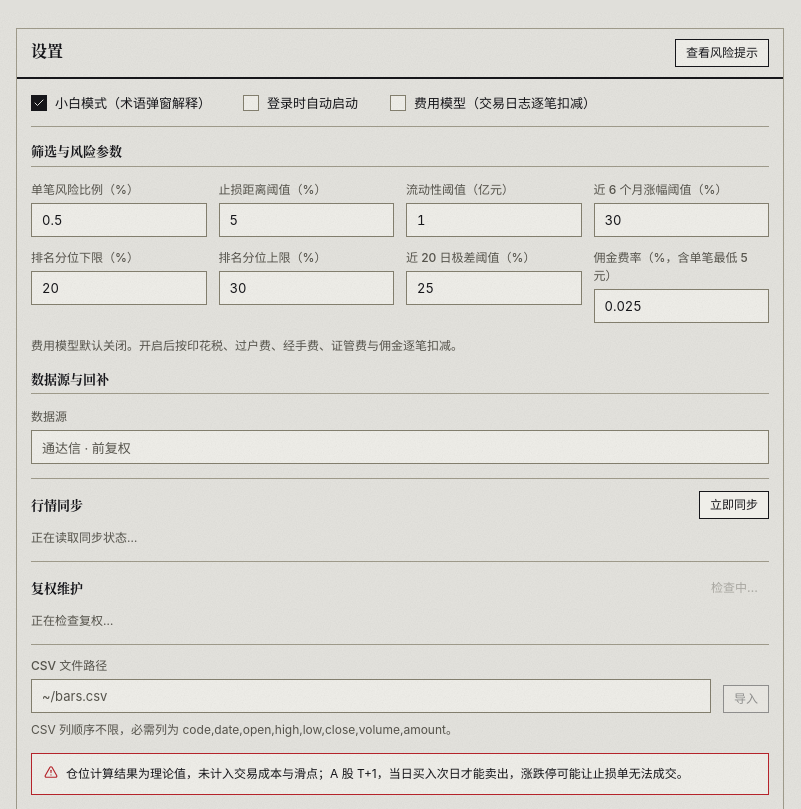
Scenario: 设置页 › CSV 导入失败时显示明确错误
This screenshot has width=801, height=809.
Type "/tmp/broken.csv" into the field labelled "CSV 文件路径".
click(371, 696); type("/tmp/broken.csv")  # box [31,679,711,713]
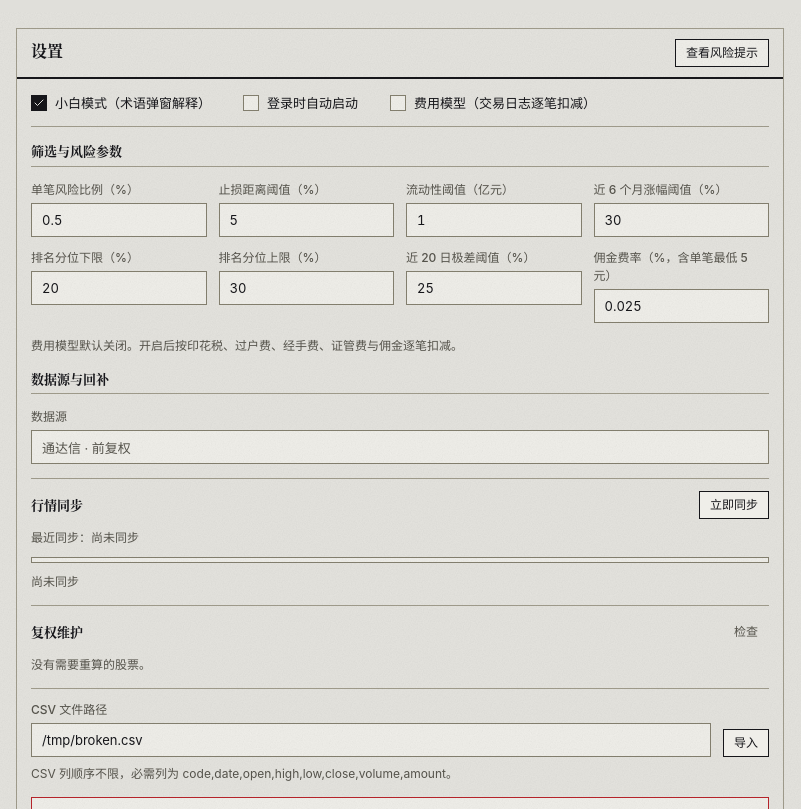
Click the button "导入".
click(746, 743)  # box [723,729,769,757]
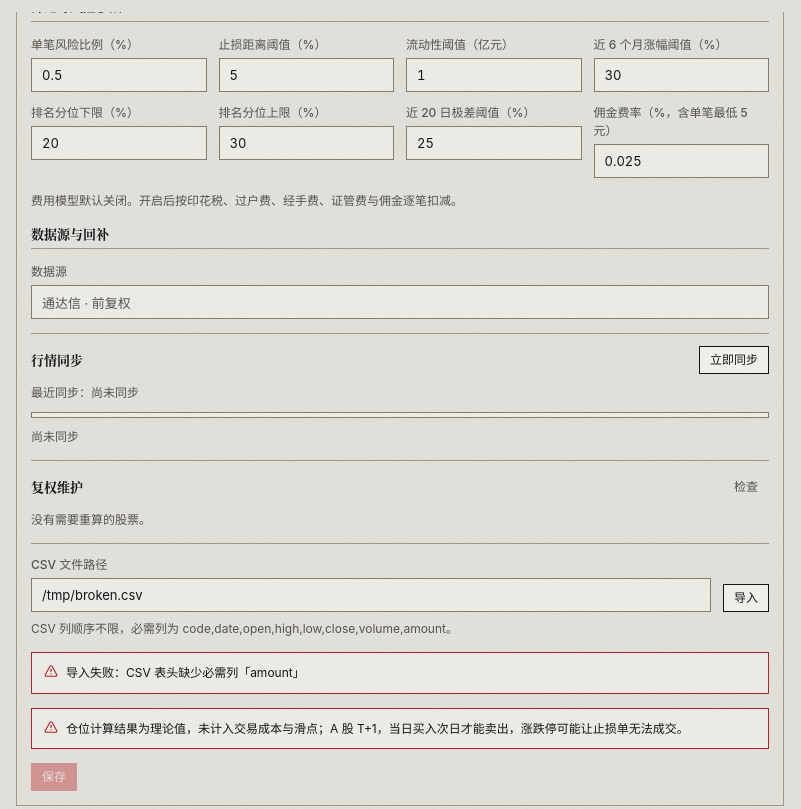
Check: the text "导入失败：CSV 表头缺少必需列「amount」" is shown, box [66,665,305,680]
